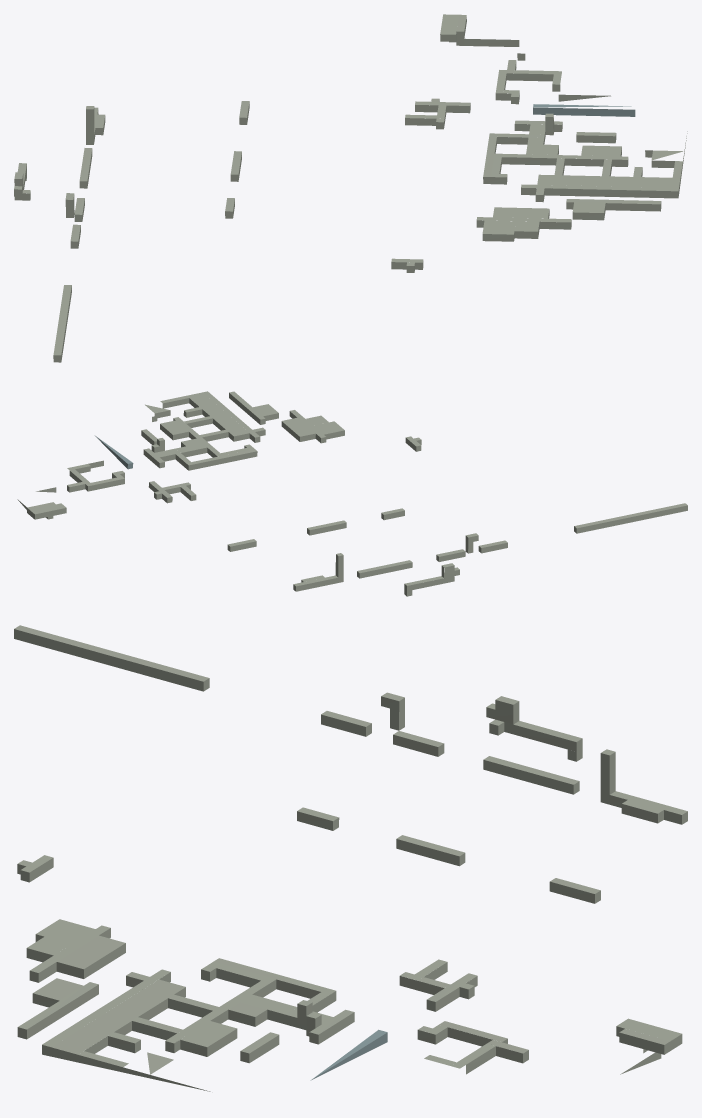
The picture shows the model from 3 angles, top to bottom: view 1: azimuth 30°, elevation 25°; view 2: azimuth 150°, elevation 25°; view 3: azimuth 270°, elevation 25°; orthographic projection. The views are drawn at different scales.
Parts seen in each view (by area): view 1: measured-industrial; view 2: measured-industrial; view 3: measured-industrial.
Boxes of the visible parts, left/top/right/bottom form: measured-industrial: left=14, top=14, right=687, bottom=362; measured-industrial: left=17, top=391, right=687, bottom=596; measured-industrial: left=14, top=625, right=687, bottom=1091.
Size of the model in its own units: 155 by 9.1 by 93.25.
